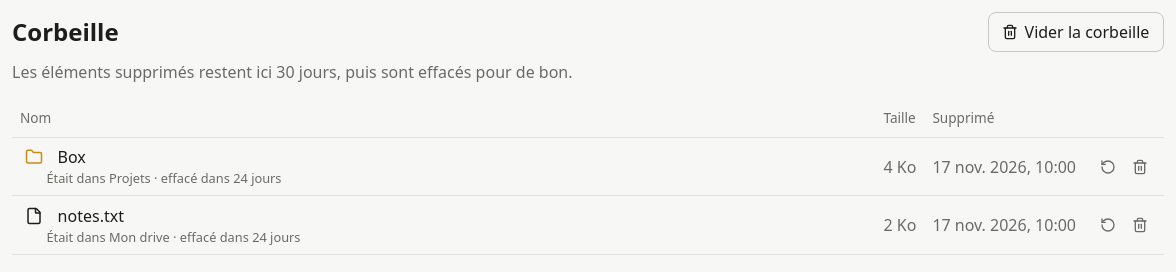
Test: TrashPage › lists items with where they were, and restores one
The width and height of the screenshot is (1176, 272).
Expected: the text "Box" is shown, [58,145,86,169]
Expected: the text "Était dans Projets · effacé dans 24 jours" is shown, [46,169,282,187]
What coordinates should you click on to do the following:
click the button named "Restaurer Box"
I would click on:
 (1108, 166)
Its box is [1092,150,1124,182].
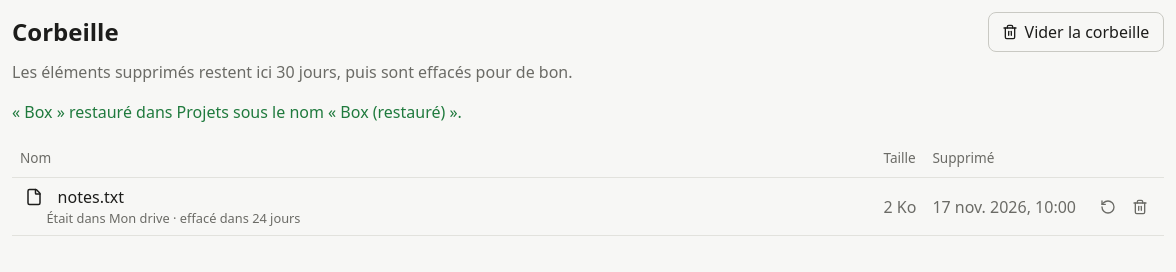
Expected: the text "« Box » restauré dans Projets sous le nom « Box (restauré) »." is shown, [12,101,462,123]
